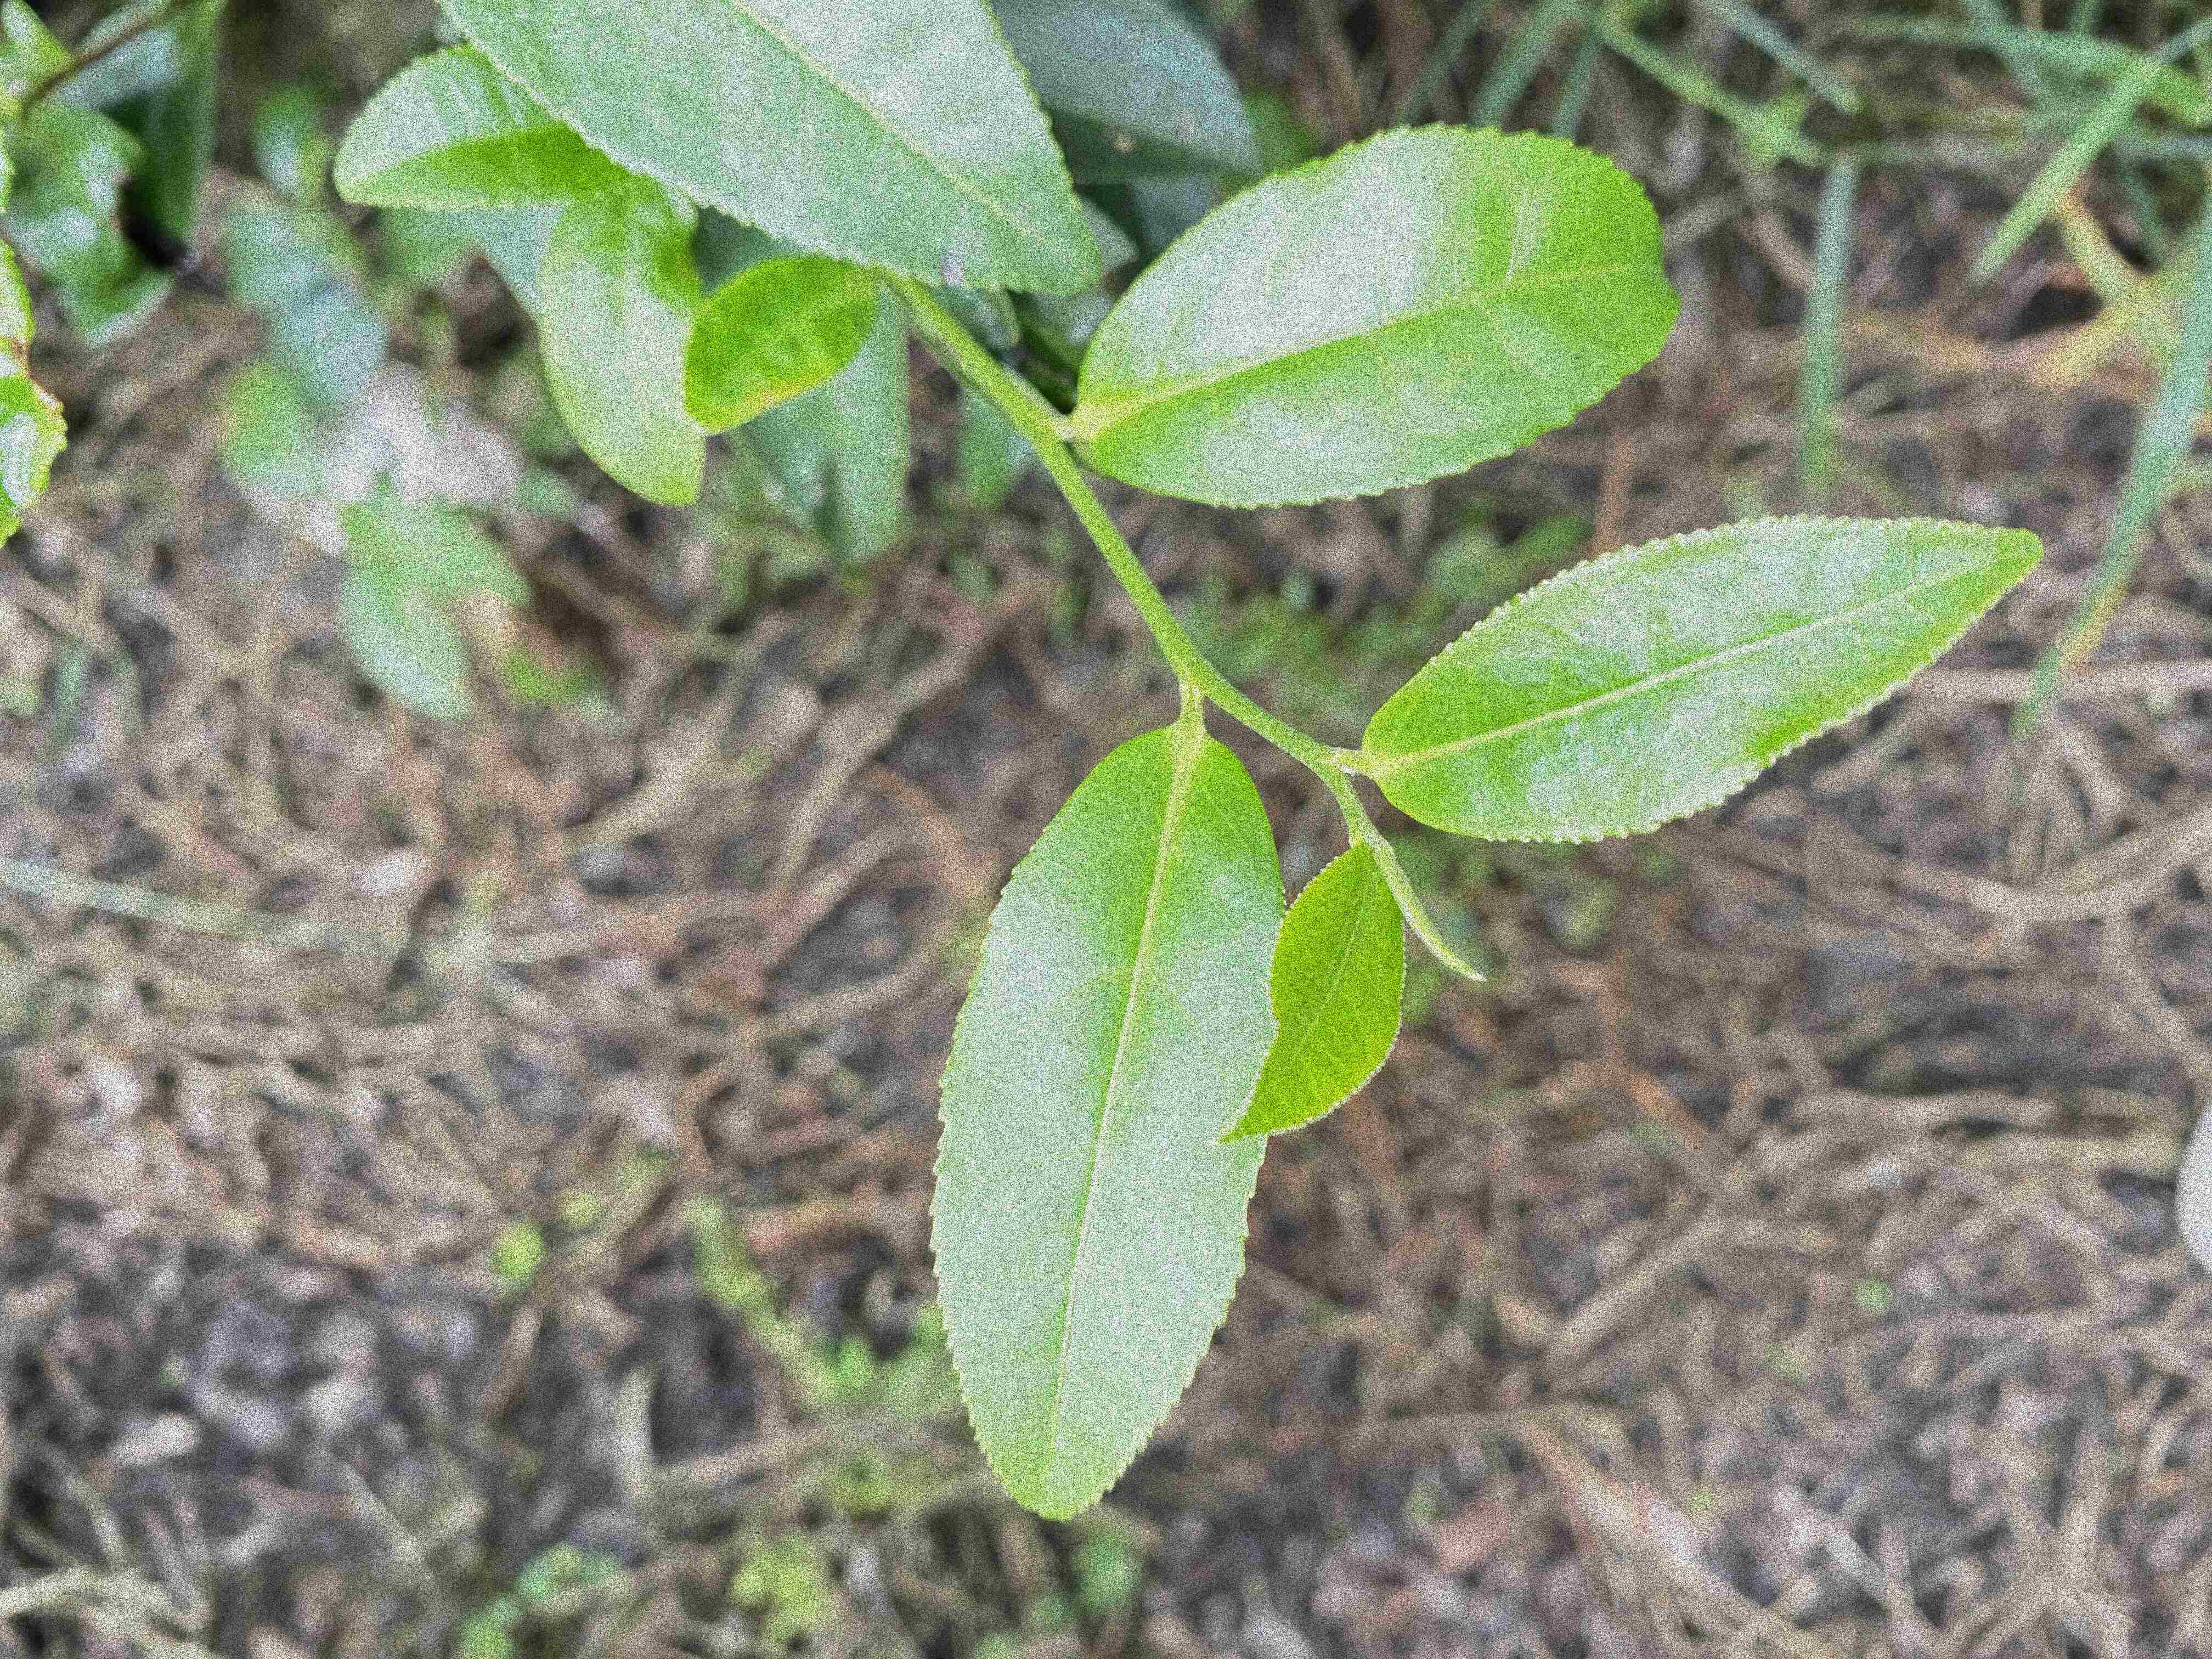healthy: (921, 723, 1287, 1523), (1075, 122, 1683, 514), (1362, 509, 2045, 843), (1205, 843, 1409, 1150)
tanju_low: (432, 2, 1099, 301)
